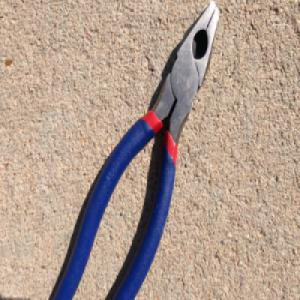Pliers: (53, 0, 220, 300)
